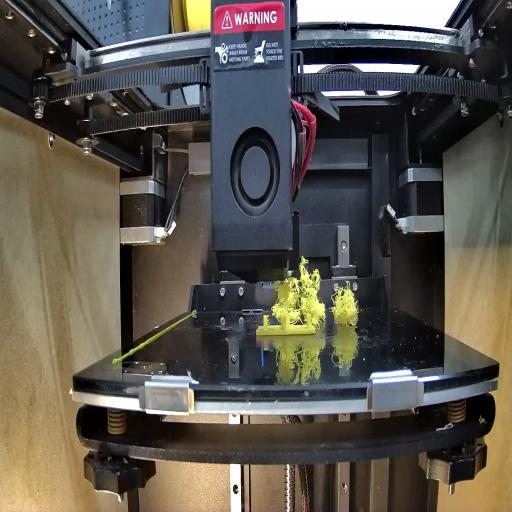spaghetti: (278, 261, 327, 320), (330, 284, 359, 324)
